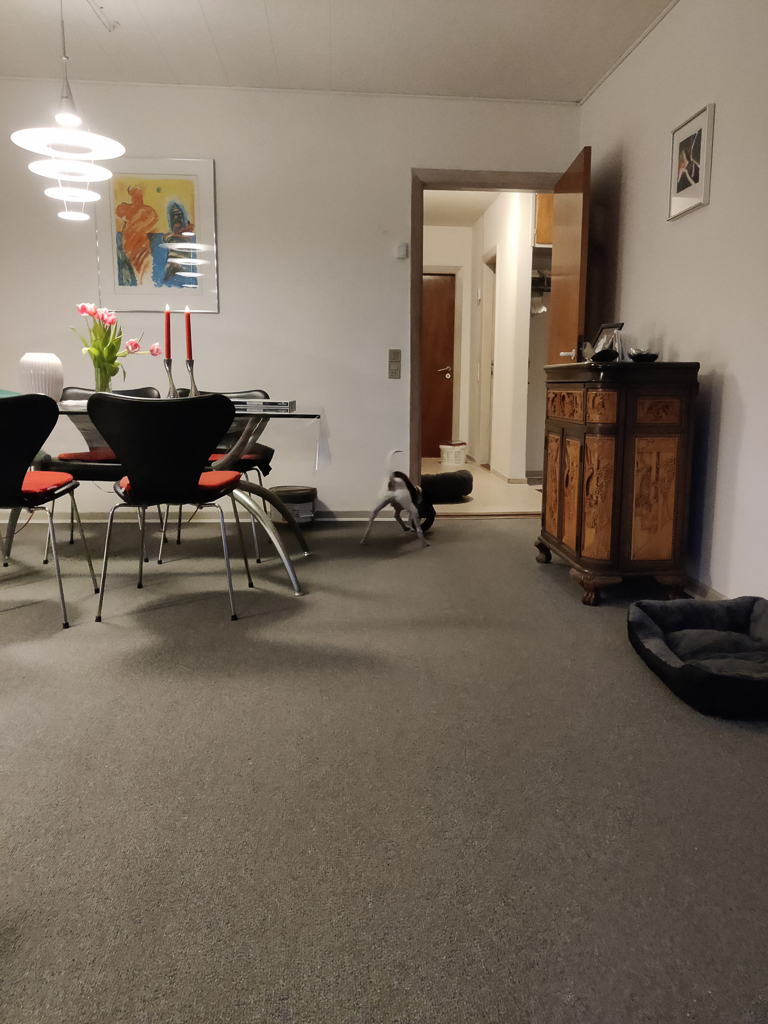Dog: (353, 446, 439, 552)
